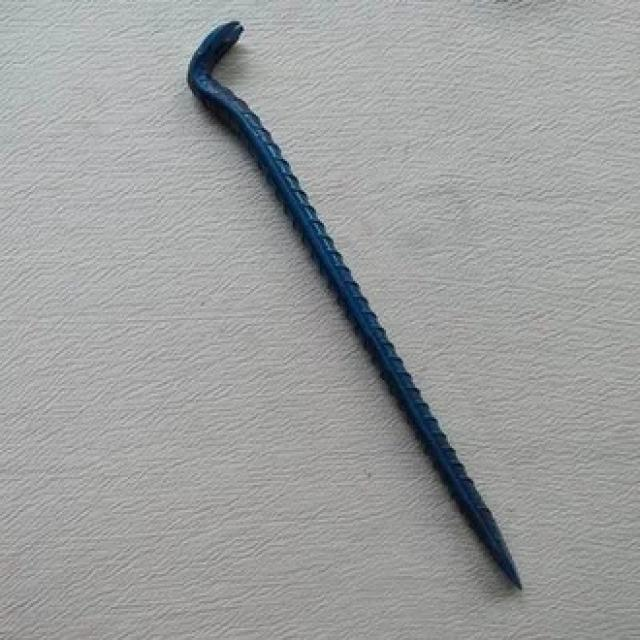Linggis: (185, 18, 527, 594)
